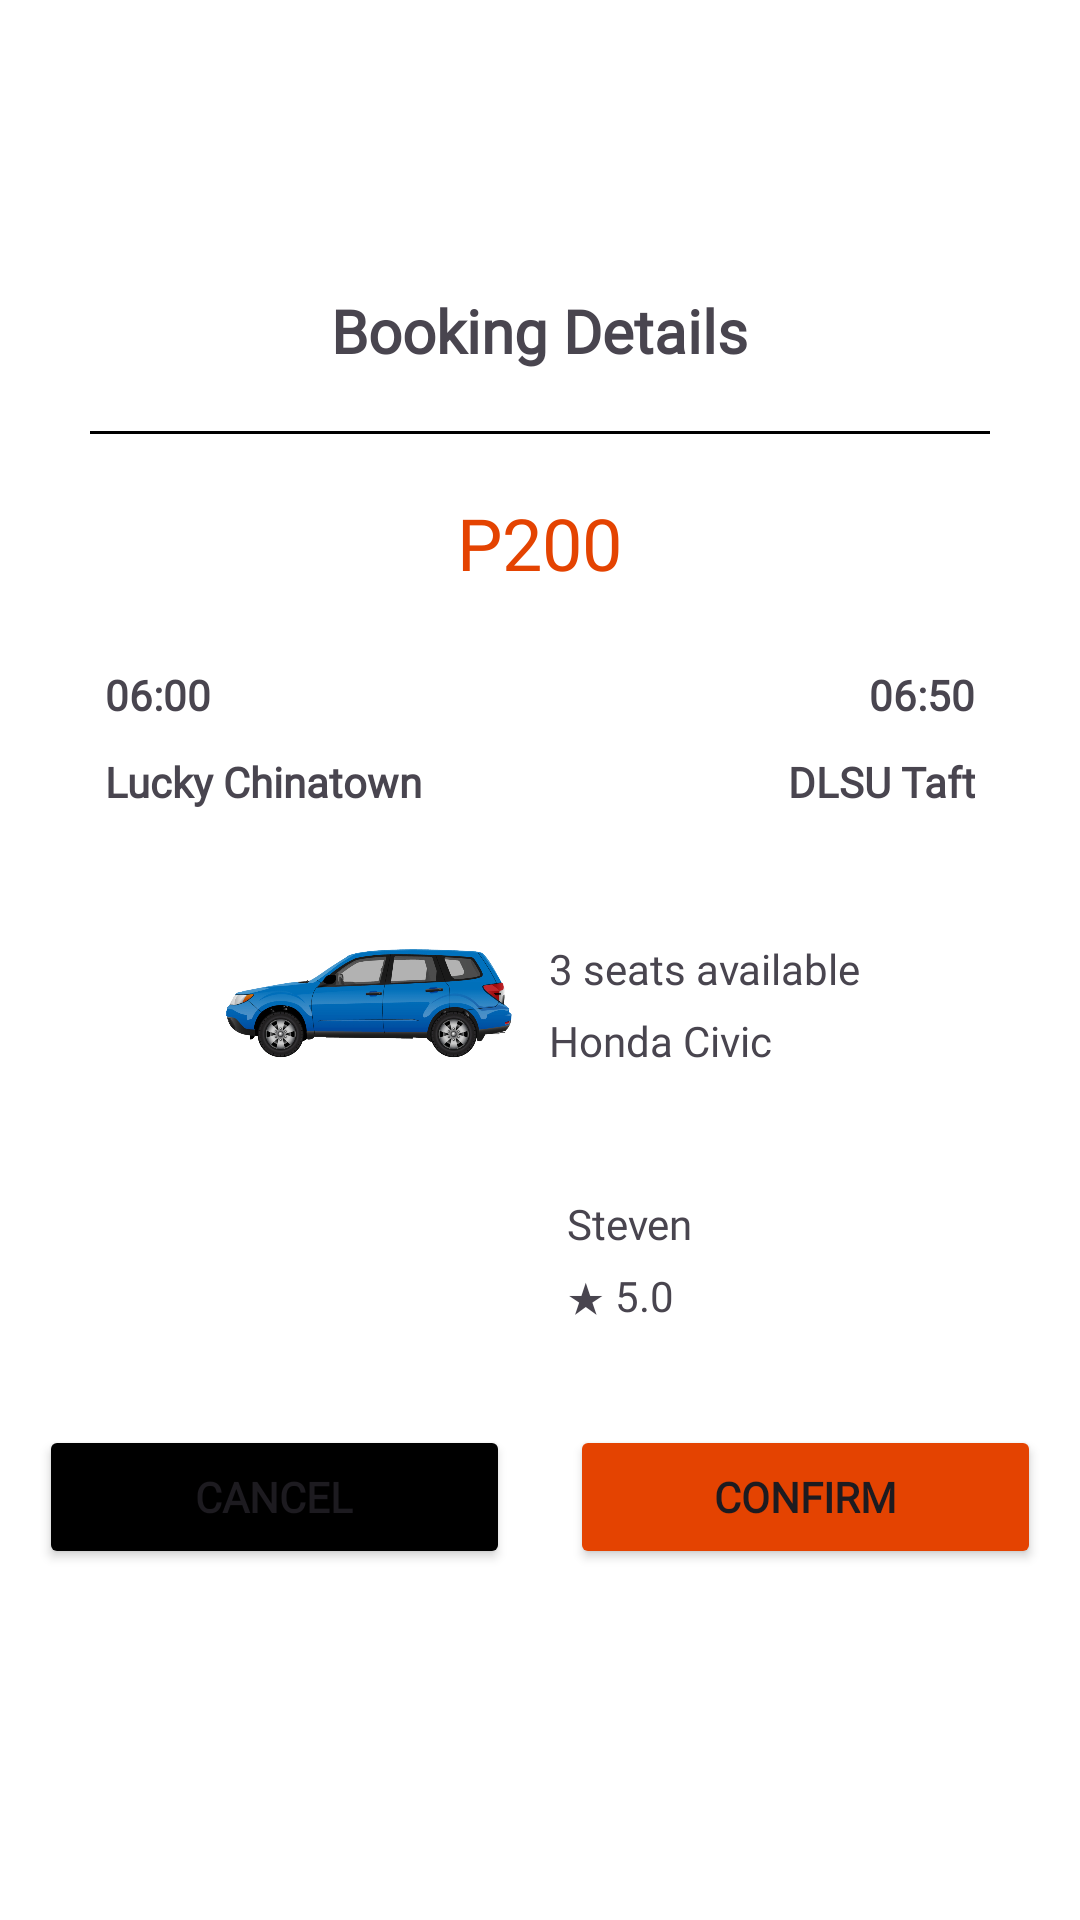

Point at icon controls on the screen. Image size 1080*1920, points as point (x, y).
hatchback: point (369, 1003)
